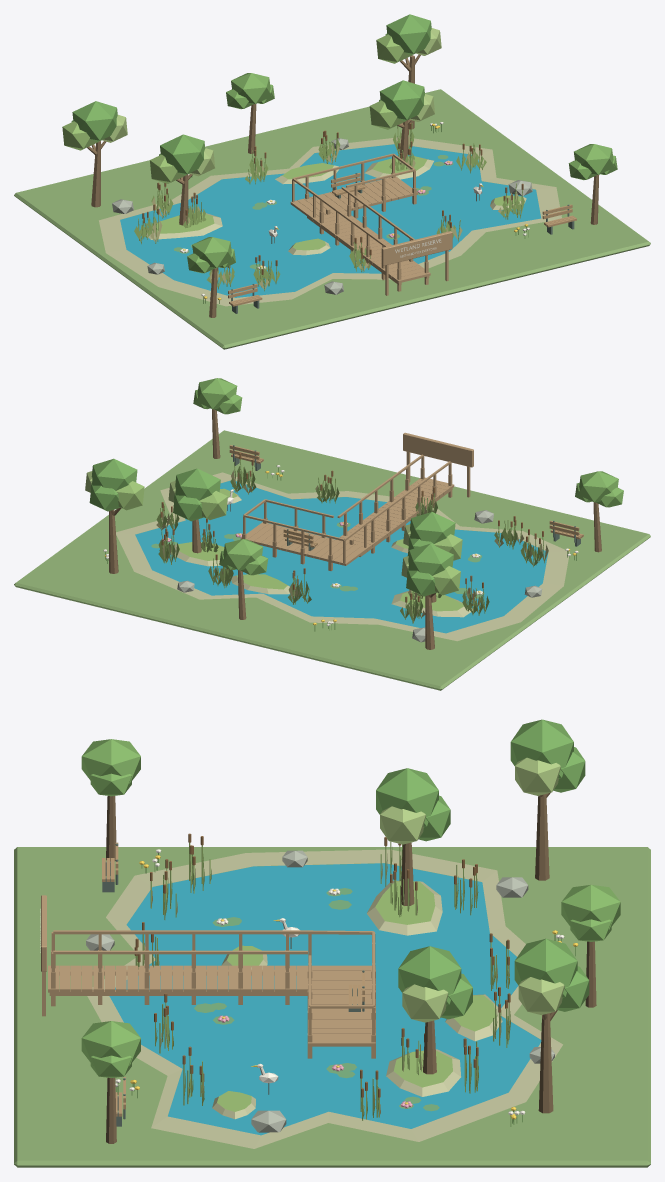
The model's file is Clean_Wetland.fbx.
The picture shows the model from 3 angles, top to bottom: view 1: azimuth 30°, elevation 25°; view 2: azimuth 150°, elevation 25°; view 3: azimuth 270°, elevation 25°; orthographic projection. The views are drawn at different scales.
Parts seen in each view (by area): view 1: Clean_Wetland_Mesh.002; view 2: Clean_Wetland_Mesh.002; view 3: Clean_Wetland_Mesh.002.
Part boxes in pixels (bbox=[...]): Clean_Wetland_Mesh.002: bbox=[14, 14, 650, 349]; Clean_Wetland_Mesh.002: bbox=[14, 378, 650, 690]; Clean_Wetland_Mesh.002: bbox=[14, 719, 650, 1167].
Bounding box in the file's own units: 2010 × 534 × 1700.
